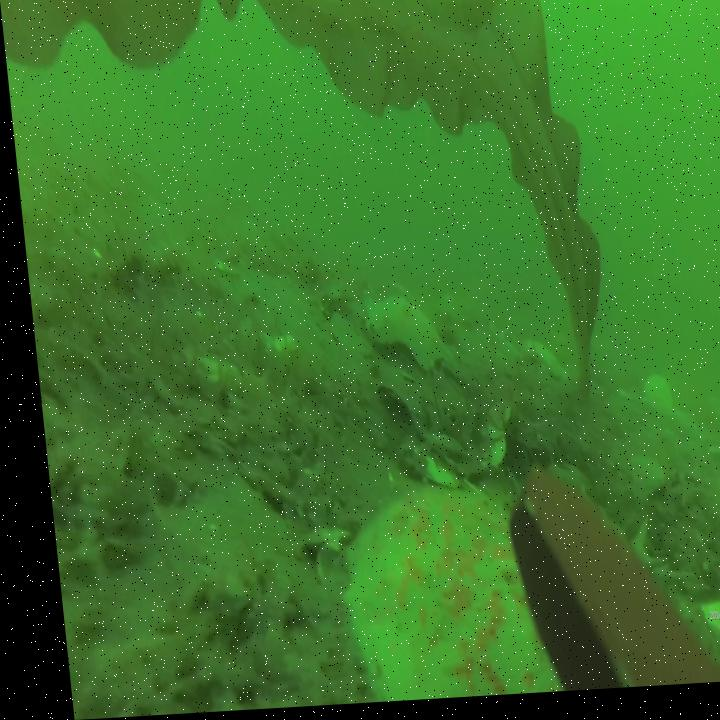starfish: (320, 478, 561, 707), (355, 296, 441, 378), (516, 343, 560, 390)
